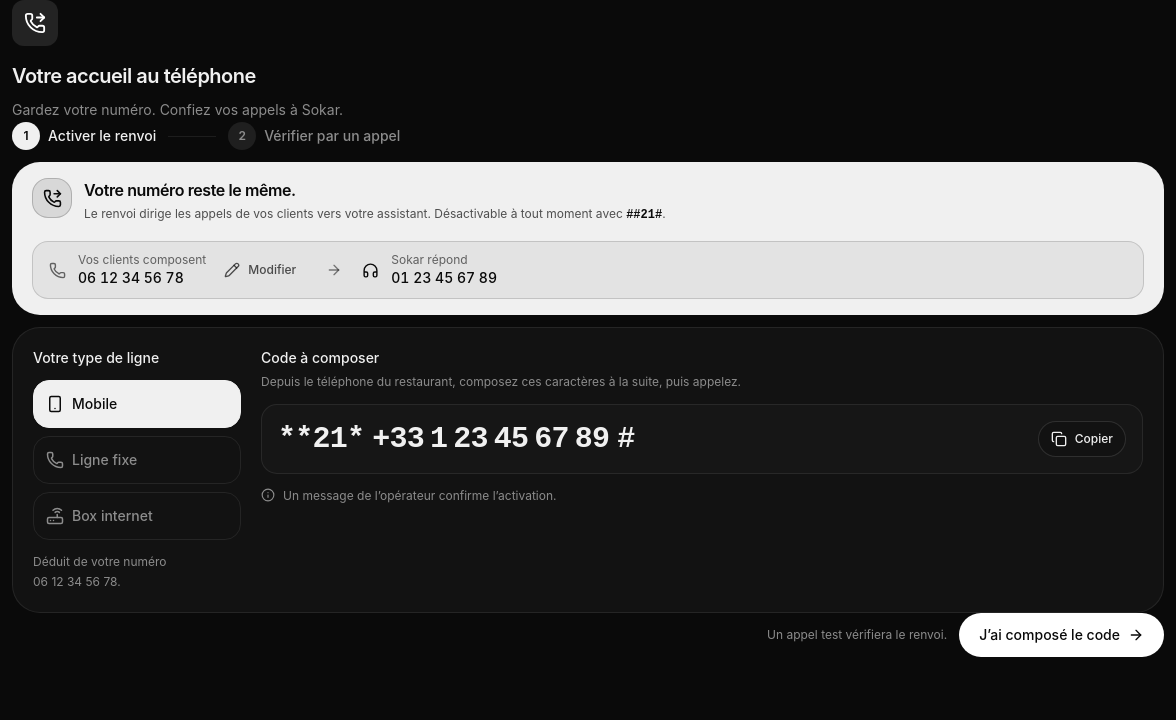
Test: PhoneStep › montre le code de renvoi selon le type de ligne, numéro Sokar déjà rempli
expect the text "##21#" is shown: met, box x1=626 y1=208 x2=662 y2=222
Step 1. Click the button "Ligne fixe" → (137, 460), box x1=33 y1=436 x2=241 y2=484
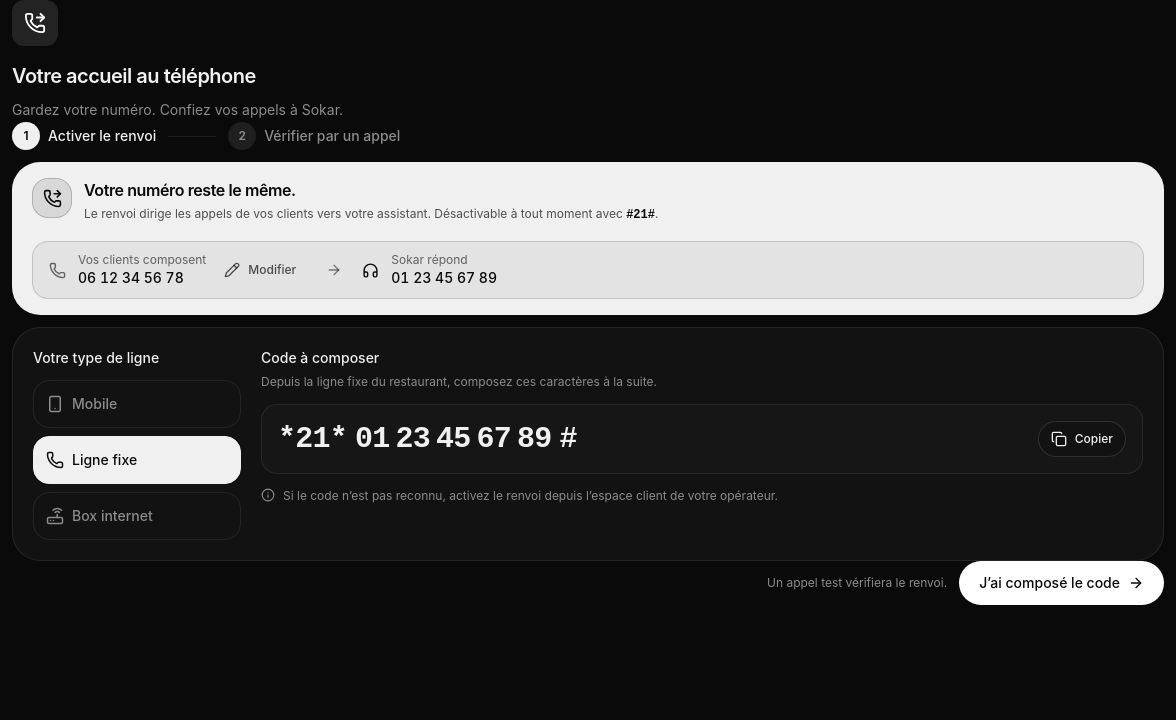
Step 2. Click the button "Box internet" → (137, 516), box x1=33 y1=492 x2=241 y2=540
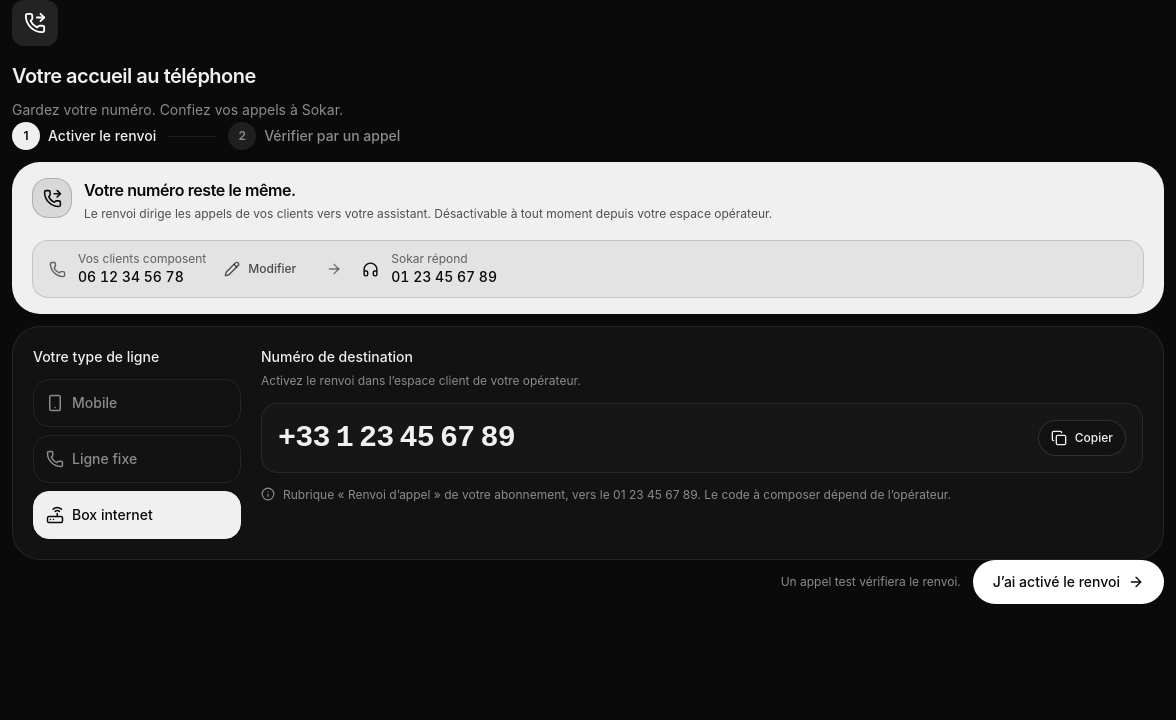
expect the text "Rubrique « Renvoi d’appel »" is shown: met, box x1=283 y1=487 x2=951 y2=502
expect the button with aria-label "Copier le numéro" is shown: met, box x1=1038 y1=420 x2=1126 y2=456
